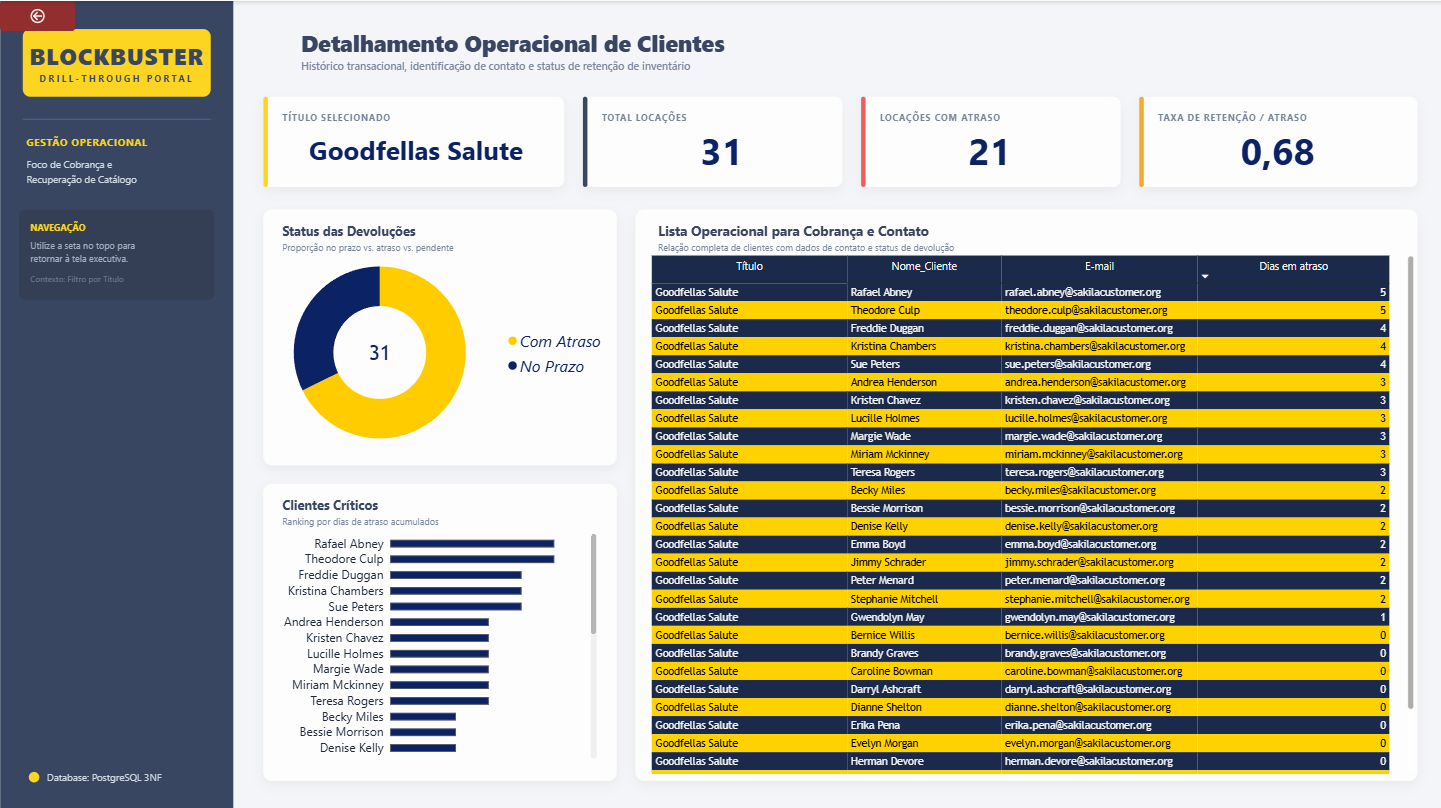

This screenshot's page, from the dashboard's own definition file:
{"tool":"powerbi","page":{"name":"Client","canvas":[1920,1080],"ordinal":1},"visuals":[{"type":"actionButton","box":[0,0,100,40],"z":0},{"type":"tableEx","fields":{"Values":["v_dim_filme.titulo","v_dim_cliente.nome_cliente","v_dim_cliente.email","Sum(v_fato_locacao.dias_atraso)"]},"box":[850,324.3,1047.1,718.6],"z":1000},{"type":"cardVisual","fields":{"Data":["Min(v_dim_filme.titulo)"]},"box":[336.5,117,434.9,162.3],"z":2000},{"type":"cardVisual","fields":{"Data":["_Medidas.Total Alugueis"]},"box":[763.4,117,393.7,162.3],"z":3000},{"type":"cardVisual","fields":{"Data":["_Medidas.Total Atrasos"]},"box":[1120,117.1,393.7,162.3],"z":4000},{"type":"cardVisual","fields":{"Data":["_Medidas.Taxa de Atraso"]},"box":[1502.9,117.1,393.7,162.3],"z":5000},{"type":"donutChart","fields":{"Category":["v_fato_locacao.status_devolucao"],"Y":["_Medidas.Total Alugueis"]},"box":[336.5,324.5,472.2,286],"z":6000},{"type":"clusteredBarChart","fields":{"Category":["v_dim_cliente.nome_cliente"],"Y":["Sum(v_fato_locacao.dias_atraso)"]},"box":[351.4,685.7,458.6,337.1],"z":7000}]}

Visuals, with their boxes on the page's 1920x1080 design canvas (x1, y1, x2, y2). These are canvas units, not pixel positions in the 1441x808 screenshot, which may show the page scaled, cropped or inside an application window:
actionButton: select_region(0, 0, 100, 40)
tableEx - v_dim_filme.titulo x v_dim_cliente.nome_cliente: select_region(850, 324, 1897, 1043)
cardVisual - Min(v_dim_filme.titulo): select_region(336, 117, 771, 279)
cardVisual - _Medidas.Total Alugueis: select_region(763, 117, 1157, 279)
cardVisual - _Medidas.Total Atrasos: select_region(1120, 117, 1514, 279)
cardVisual - _Medidas.Taxa de Atraso: select_region(1503, 117, 1897, 279)
donutChart - v_fato_locacao.status_devolucao x _Medidas.Total Alugueis: select_region(336, 324, 809, 610)
clusteredBarChart - v_dim_cliente.nome_cliente x Sum(v_fato_locacao.dias_atraso): select_region(351, 686, 810, 1023)
